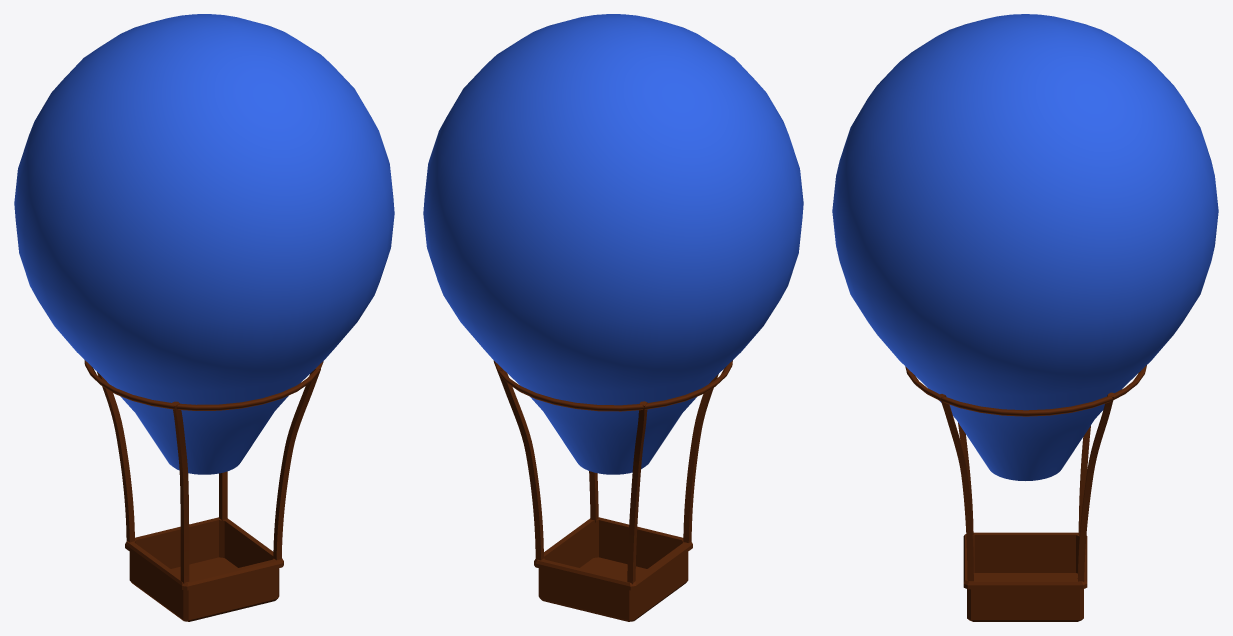
The model's file is FBX_AirBalloon.fbx.
3 renders of one model, left to right at view 1: azimuth 30°, elevation 25°; view 2: azimuth 150°, elevation 25°; view 3: azimuth 270°, elevation 25°, orthographic.
Visible parts, largest first — view 1: Balloon_OG, Nacelle, String_04, String_Circle, String_03, String_01; view 2: Balloon_OG, Nacelle, String_02, String_Circle, String_01, String_03; view 3: Balloon_OG, Nacelle, String_Circle, String_02, String_04, String_01.
Part boxes in pixels (x1,y1,x2,y2): Balloon_OG: (14, 14, 394, 474); Nacelle: (125, 517, 283, 621); String_04: (273, 366, 320, 560); String_Circle: (84, 360, 323, 410); String_03: (172, 401, 189, 583); String_01: (97, 372, 134, 542); Balloon_OG: (423, 14, 803, 474); Nacelle: (534, 517, 692, 621); String_02: (497, 367, 543, 560); String_Circle: (493, 360, 732, 411); String_01: (627, 401, 647, 584); String_03: (683, 374, 718, 542); Balloon_OG: (832, 14, 1218, 480); Nacelle: (963, 532, 1087, 621); String_Circle: (905, 365, 1146, 416); String_02: (1077, 392, 1114, 581); String_04: (939, 394, 973, 581); String_01: (1078, 426, 1090, 535).
Size of the model in its own units: 535 by 867 by 535.
